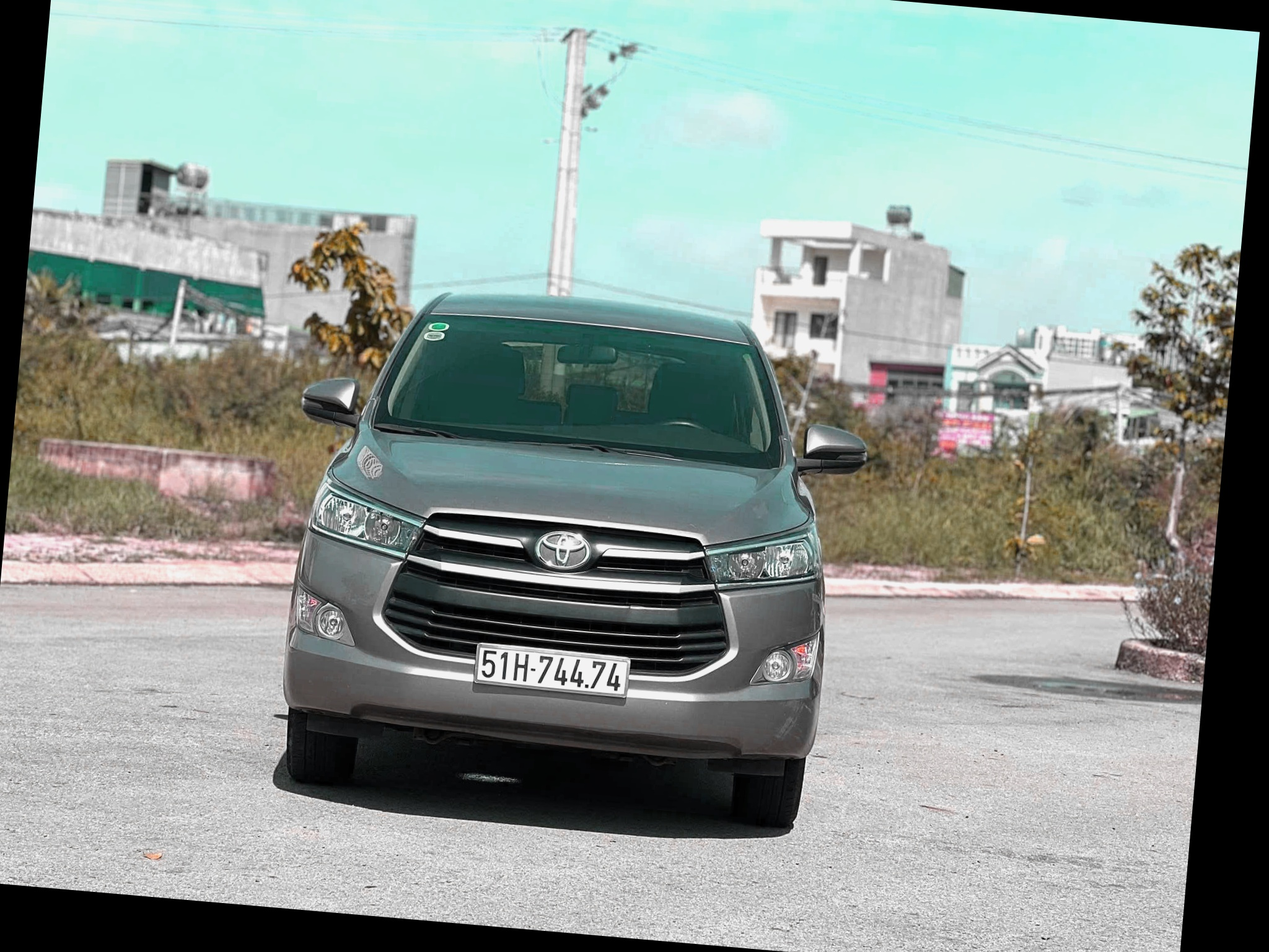Bien-so: (468, 639, 638, 708)
